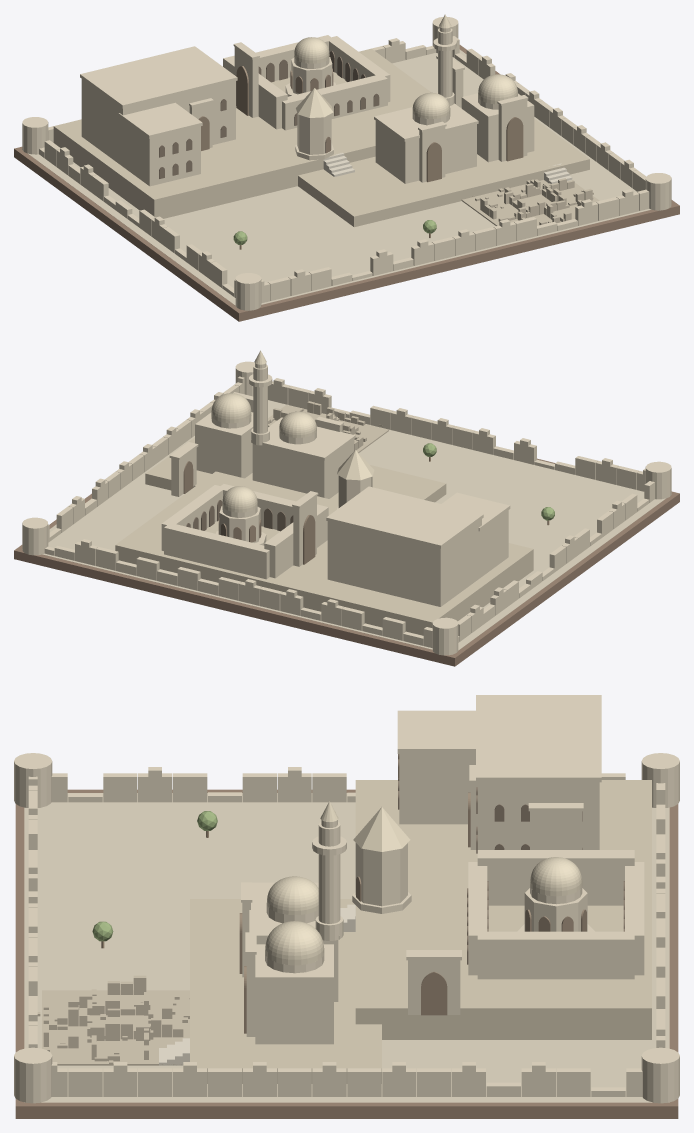
File: shirvanshahs-today.glb
3 views of the same model, one above another, from view 1: azimuth 30°, elevation 25°; view 2: azimuth 150°, elevation 25°; view 3: azimuth 270°, elevation 25° (orthographic). The views are drawn at different scales.
Visible parts, largest first — view 1: stone, terrace, ground, base, stone_old, dome, niche, window, path; view 2: stone, ground, terrace, base, dome, stone_old, niche, window; view 3: stone, ground, terrace, base, stone_old, dome, niche, path, window, tree.
Boxes of the visible parts, x1,y1,x2,y2 form: stone: [22, 17, 671, 310]; terrace: [53, 48, 589, 227]; ground: [28, 49, 651, 305]; base: [14, 45, 679, 321]; stone_old: [461, 178, 599, 225]; dome: [294, 14, 517, 118]; niche: [198, 66, 523, 182]; window: [159, 51, 379, 178]; path: [323, 152, 574, 183]; stone: [22, 361, 671, 655]; ground: [42, 400, 665, 650]; terrace: [115, 437, 533, 635]; base: [14, 458, 679, 666]; dome: [211, 350, 374, 512]; stone_old: [268, 401, 388, 452]; niche: [183, 461, 315, 564]; window: [186, 500, 293, 531]; stone: [14, 695, 679, 1103]; ground: [24, 793, 669, 1102]; terrace: [190, 780, 651, 1083]; base: [15, 789, 678, 1118]; stone_old: [37, 975, 189, 1065]; dome: [265, 801, 582, 965]; niche: [239, 792, 586, 1033]; path: [159, 904, 355, 1065]; window: [398, 754, 624, 964]; tree: [92, 811, 217, 941].
Bounding box in the file's own units: 0.688 × 0.2288 × 0.6112.
